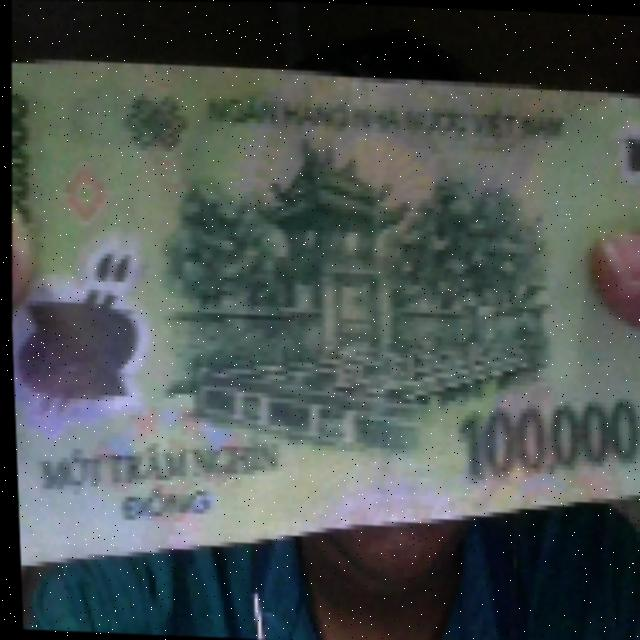100 000 VND: (1, 43, 640, 595)
